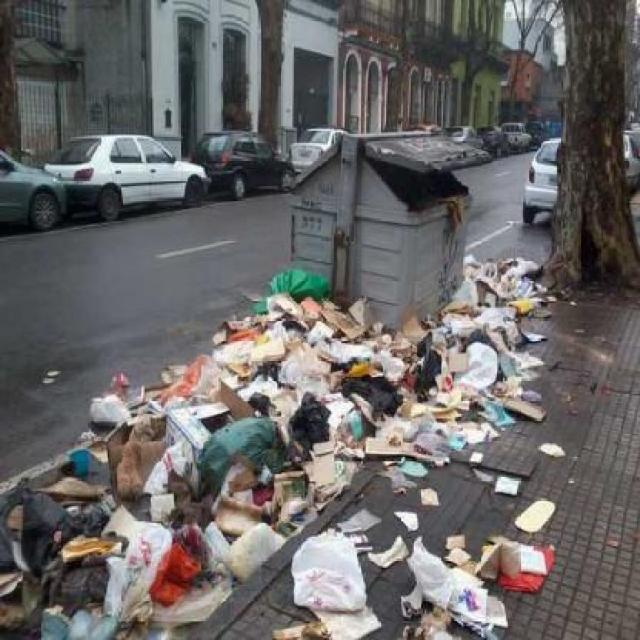garbage: (257, 253, 568, 640), (0, 370, 272, 638), (200, 296, 298, 430), (388, 169, 484, 234)
